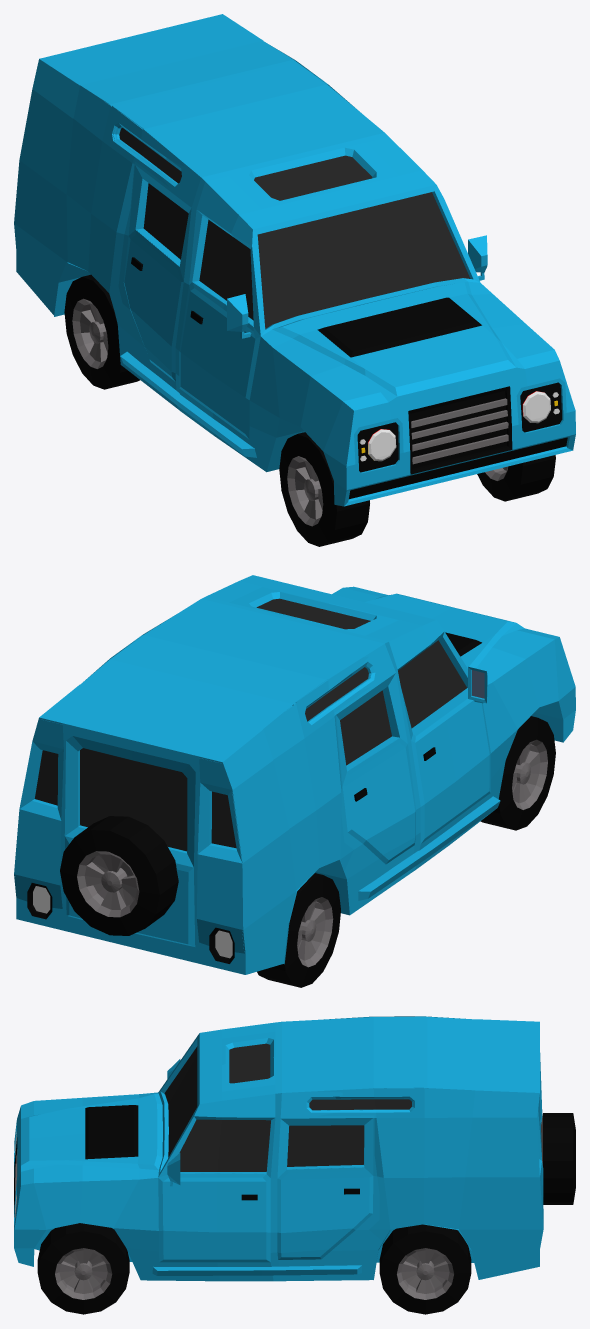
File: UtilityVehicle.fbx
3 views of the same model, one above another, from view 1: azimuth 30°, elevation 25°; view 2: azimuth 150°, elevation 25°; view 3: azimuth 270°, elevation 25° (orthographic). The views are drawn at different scales.
Visible parts, largest first — view 1: UtilityVehicle, Wheel.Front.Left, Wheel.Rear.Left, Wheel.Front.Right, HeadLights; view 2: UtilityVehicle, Wheel.Rear.Left, Wheel.Front.Left, TailLights; view 3: UtilityVehicle, Wheel.Front.Right, Wheel.Rear.Right.
Boxes of the visible parts, box(x1,y1,x2,y2) form: UtilityVehicle: box(14, 14, 575, 506); Wheel.Front.Left: box(279, 432, 369, 546); Wheel.Rear.Left: box(64, 274, 139, 389); Wheel.Front.Right: box(477, 455, 555, 501); HeadLights: box(359, 391, 559, 461); UtilityVehicle: box(14, 575, 575, 974); Wheel.Rear.Left: box(257, 873, 340, 987); Wheel.Front.Left: box(480, 716, 555, 830); TailLights: box(33, 886, 232, 958); UtilityVehicle: box(14, 1016, 575, 1281); Wheel.Front.Right: box(37, 1223, 129, 1314); Wheel.Rear.Right: box(379, 1224, 471, 1314).
Bounding box in the file's own units: 591 × 600 × 1391.
